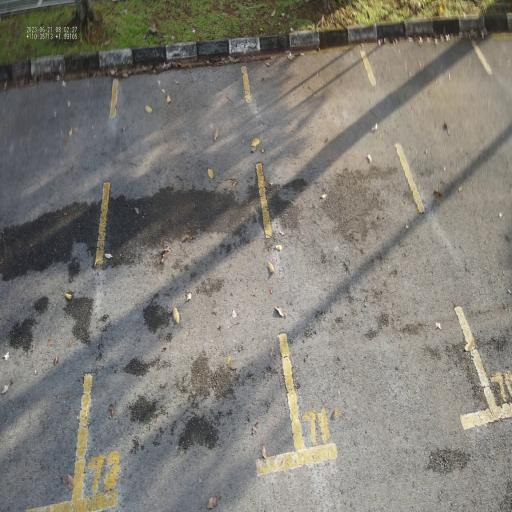Empty: (240, 38, 502, 476), (68, 39, 310, 512)
